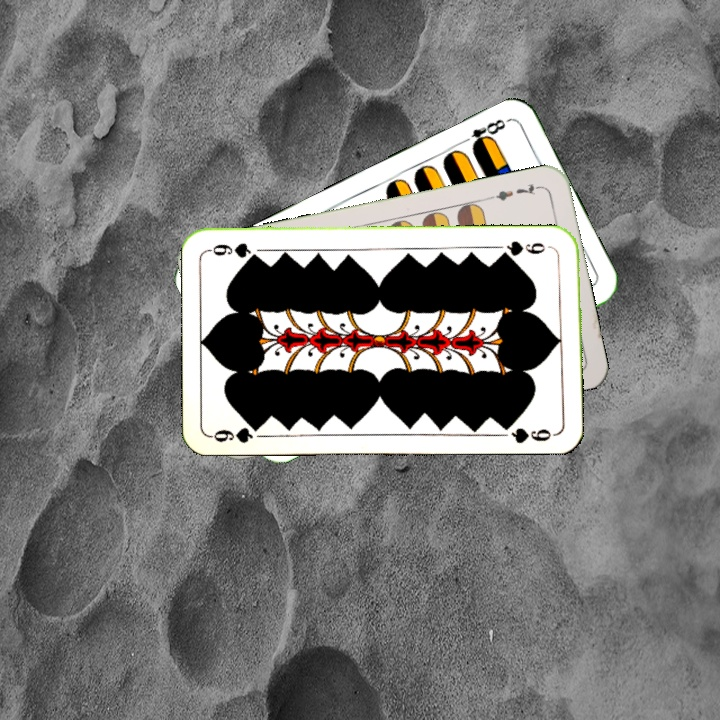E7: (485, 179, 544, 204)
E8: (456, 115, 512, 152)
G9: (207, 419, 266, 445), (496, 236, 547, 259)
